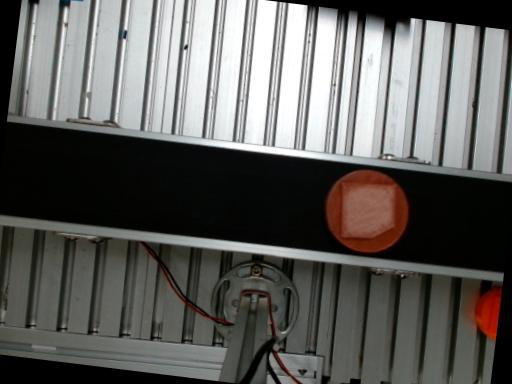Brown_Waper: (325, 170, 408, 253)
Not_Square: (339, 180, 397, 240)
